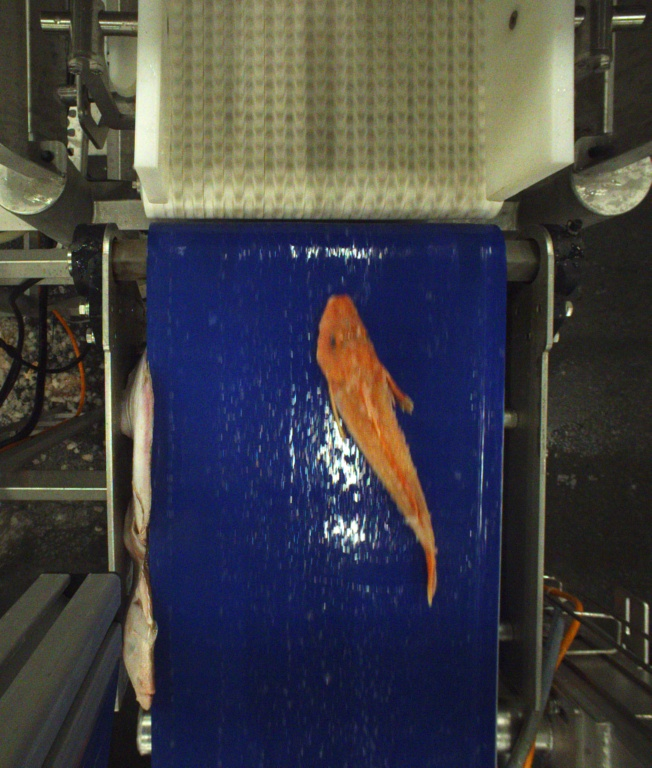GUU: (314, 297, 438, 607)
